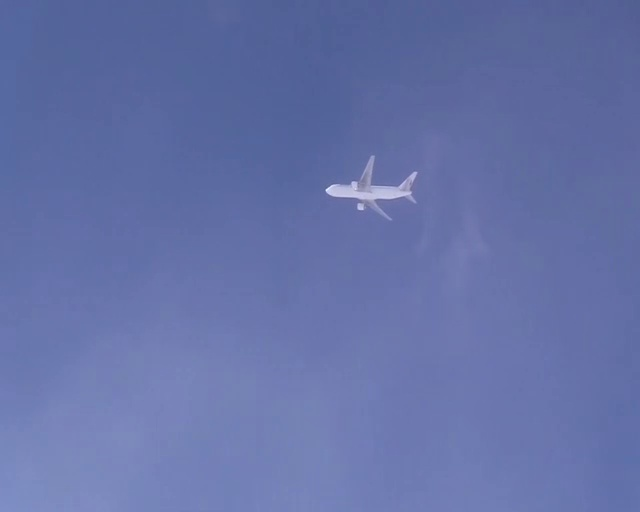AIRPLANE: (324, 154, 418, 220)
